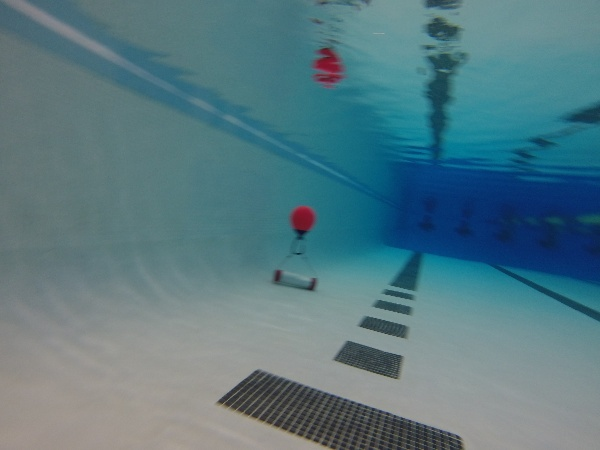buoy_red: (289, 206, 315, 238)
